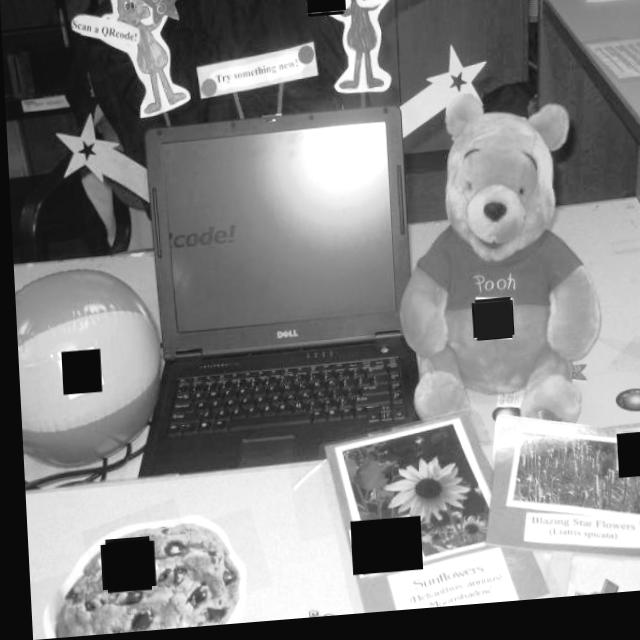qr_code: (344, 523, 416, 580), (96, 541, 148, 593), (58, 351, 98, 395), (470, 306, 509, 348), (612, 441, 640, 488), (306, 0, 345, 21)
